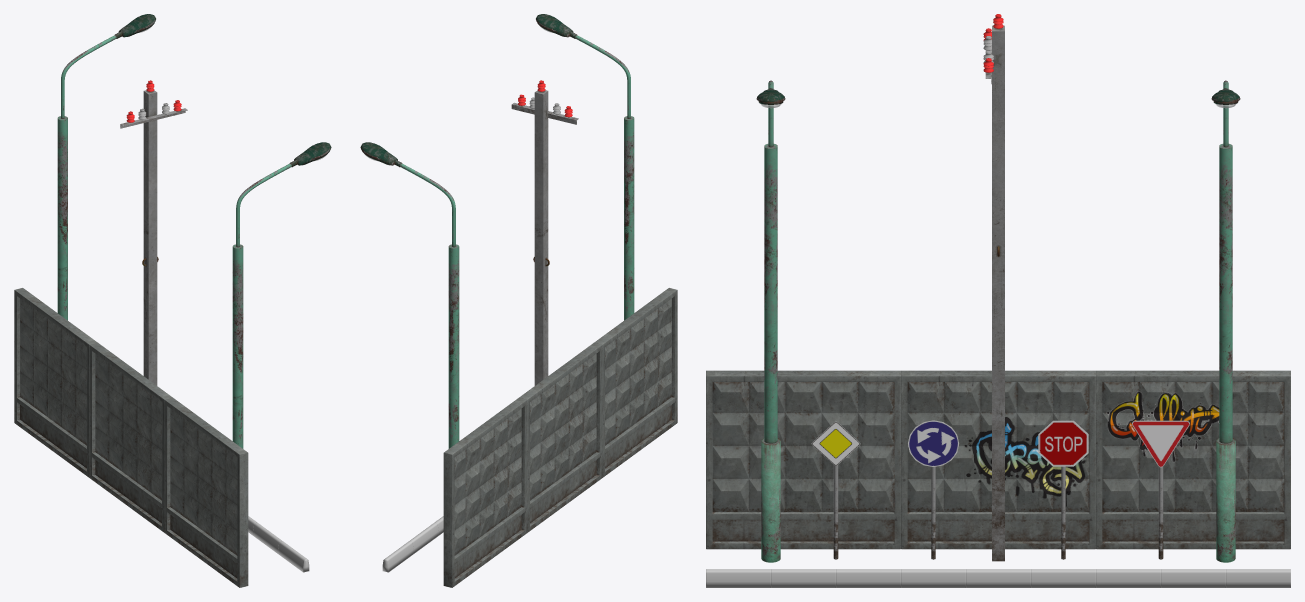
The model's file is совковый забор.fbx.
3 renders of one model, left to right at view 1: azimuth 30°, elevation 25°; view 2: azimuth 150°, elevation 25°; view 3: azimuth 270°, elevation 25°, orthographic. The views are drawn at different scales.
Parts seen in each view (by area): view 1: concrete_fence, concrete_fence.001, concrete_fence.002, power_line, lighting_pole, lighting_pole.001, curb; view 2: concrete_fence.002, concrete_fence, concrete_fence.001, power_line, lighting_pole.001, lighting_pole, curb; view 3: concrete_fence, concrete_fence.002, concrete_fence.001, curb, power_line, lighting_pole, lighting_pole.001, signs.002, signs.001, signs.003, signs.
Boxes of the visible parts, x1,y1,x2,y2 form: concrete_fence: (164,398,248,587); concrete_fence.001: (89,343,172,532); concrete_fence.002: (14,288,97,477); power_line: (120,80,187,385); lighting_pole: (232,142,331,448); lighting_pole.001: (57,14,155,320); curb: (248,516,309,572); concrete_fence.002: (443,398,527,587); concrete_fence: (594,288,677,477); concrete_fence.001: (519,343,602,532); power_line: (511,80,578,385); lighting_pole.001: (360,142,459,448); lighting_pole: (536,14,634,320); curb: (382,516,443,572); concrete_fence: (706,370,900,549); concrete_fence.002: (1096,370,1290,549); concrete_fence.001: (901,370,1095,549); curb: (706,569,1290,587); power_line: (983,14,1004,561); lighting_pole: (756,80,785,562); lighting_pole.001: (1211,80,1240,562); signs.002: (1038,420,1088,559); signs.001: (907,420,959,559); signs.003: (1132,420,1189,559); signs: (811,421,860,559).
Bounding box in the file's own units: 288 × 923 × 900.
